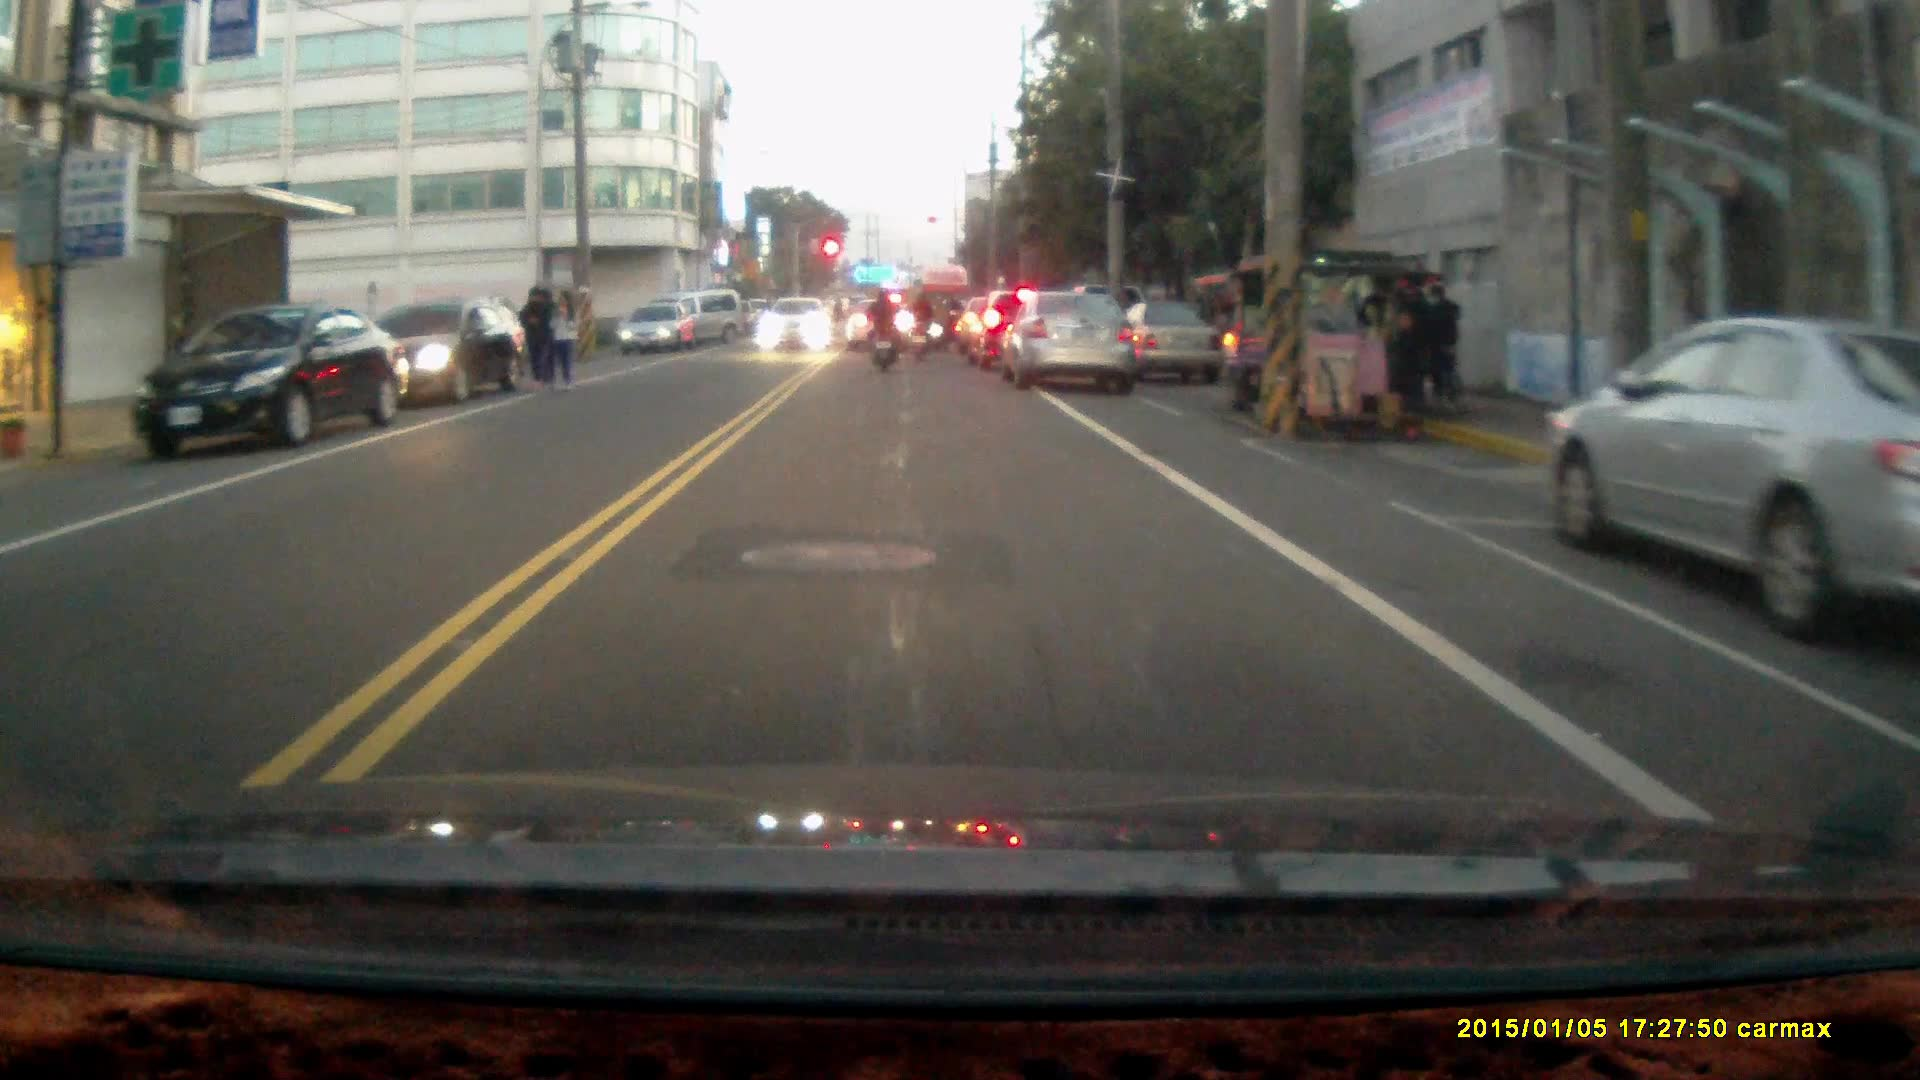pedestrian: (1421, 279, 1466, 410), (517, 281, 557, 392), (551, 285, 579, 392)
rider: (864, 284, 900, 374), (905, 287, 936, 363)
vehicle: (1539, 317, 1920, 650), (1217, 250, 1453, 432), (136, 304, 403, 456), (372, 298, 532, 409), (1007, 289, 1144, 395), (762, 295, 840, 356), (621, 300, 704, 353)
